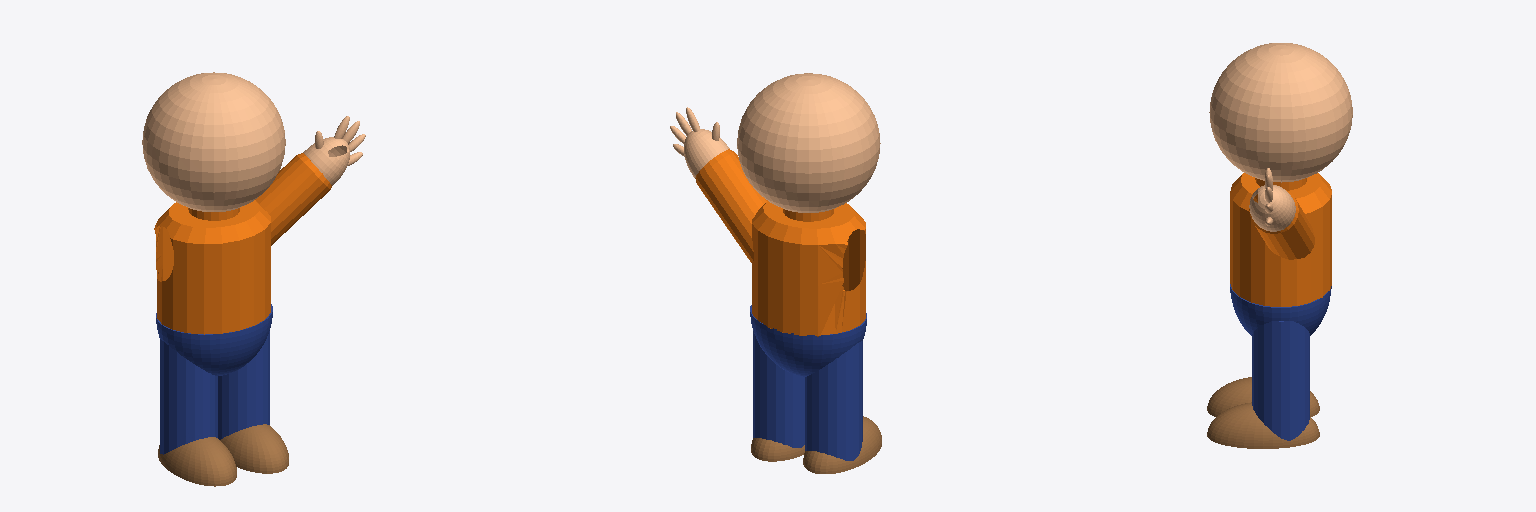
The model's file is one_hand_ball_string_man.obj.
3 renders of one model, left to right at view 1: azimuth 30°, elevation 25°; view 2: azimuth 150°, elevation 25°; view 3: azimuth 270°, elevation 25°, orthographic.
Visible parts, largest first — view 1: obj_0.003; view 2: obj_0.003; view 3: obj_0.003.
Boxes of the visible parts, box(x1,y1,x2,y2) form: obj_0.003: box(142, 72, 365, 486); obj_0.003: box(670, 73, 881, 473); obj_0.003: box(1207, 43, 1352, 448).
Bounding box in the file's own units: 18.59 × 32 × 11.35.